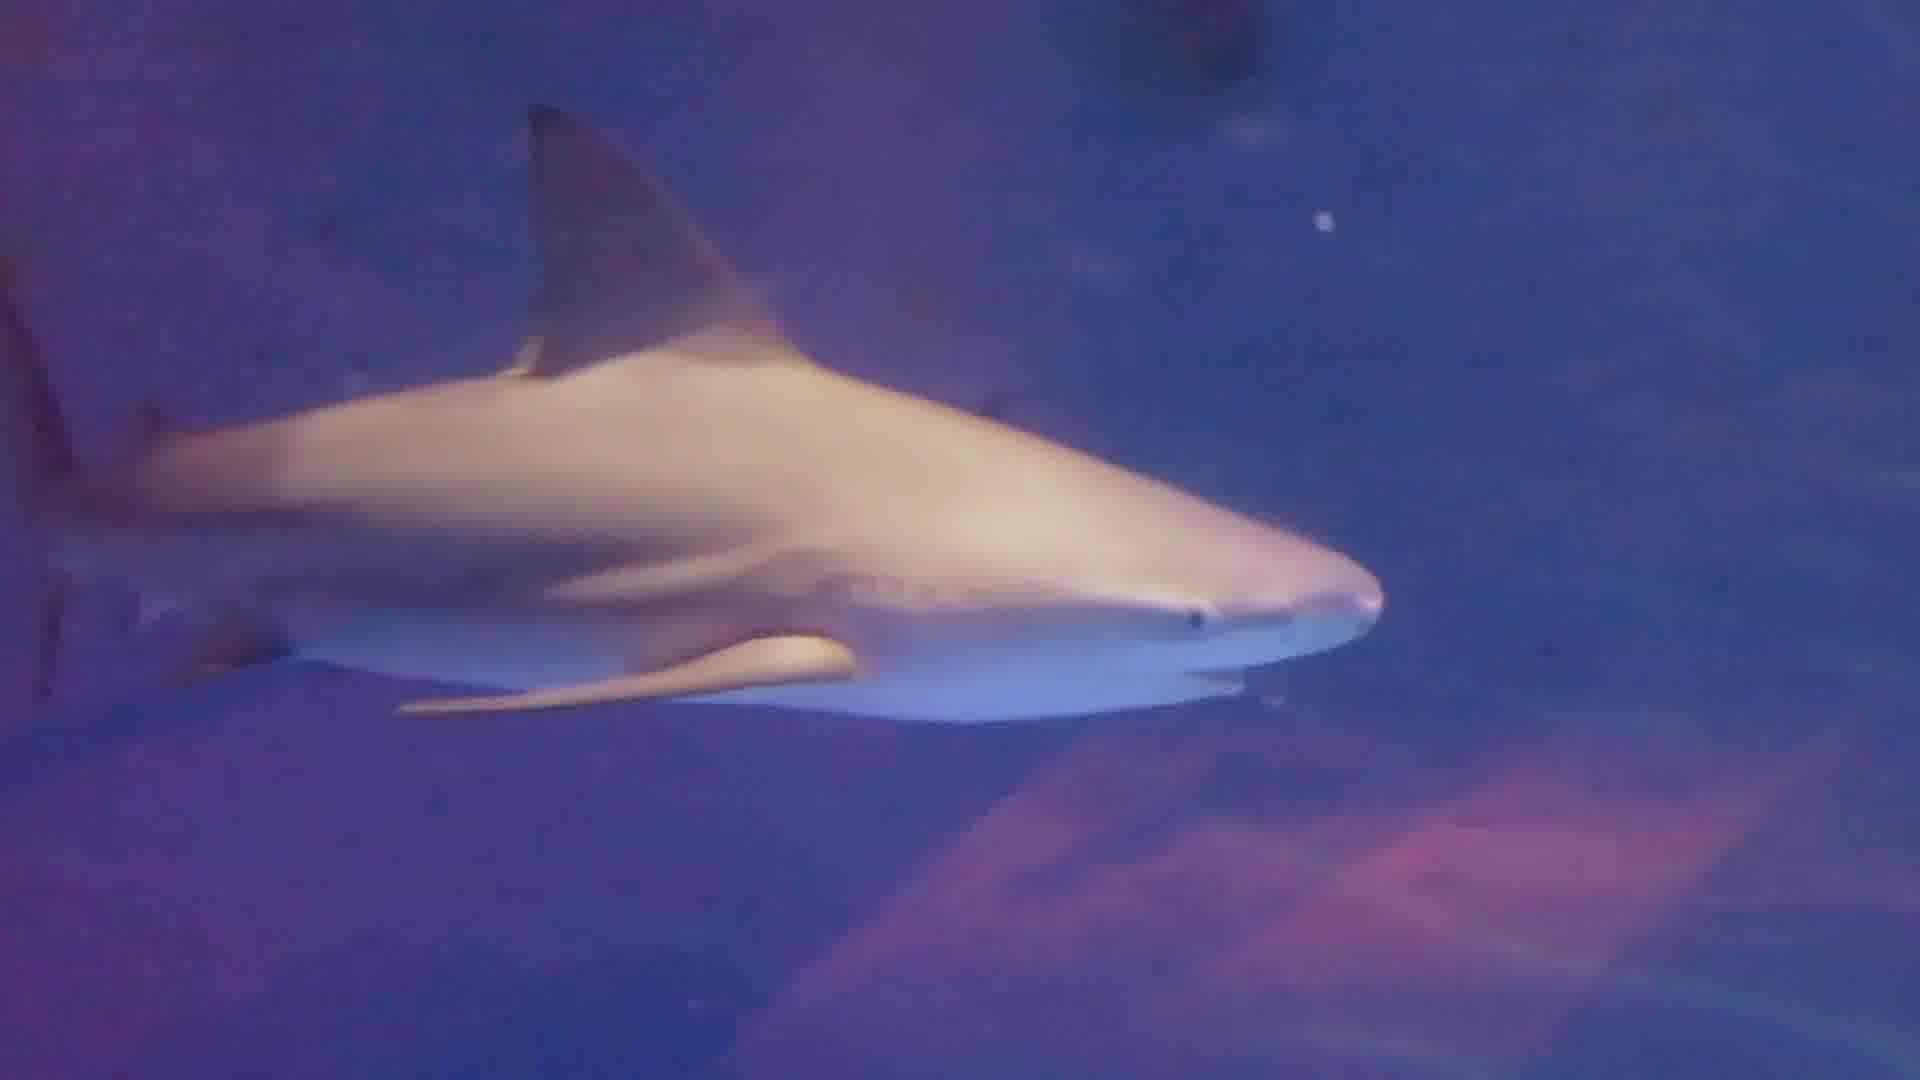Carcharhinus leucas: (22, 90, 1406, 799)
